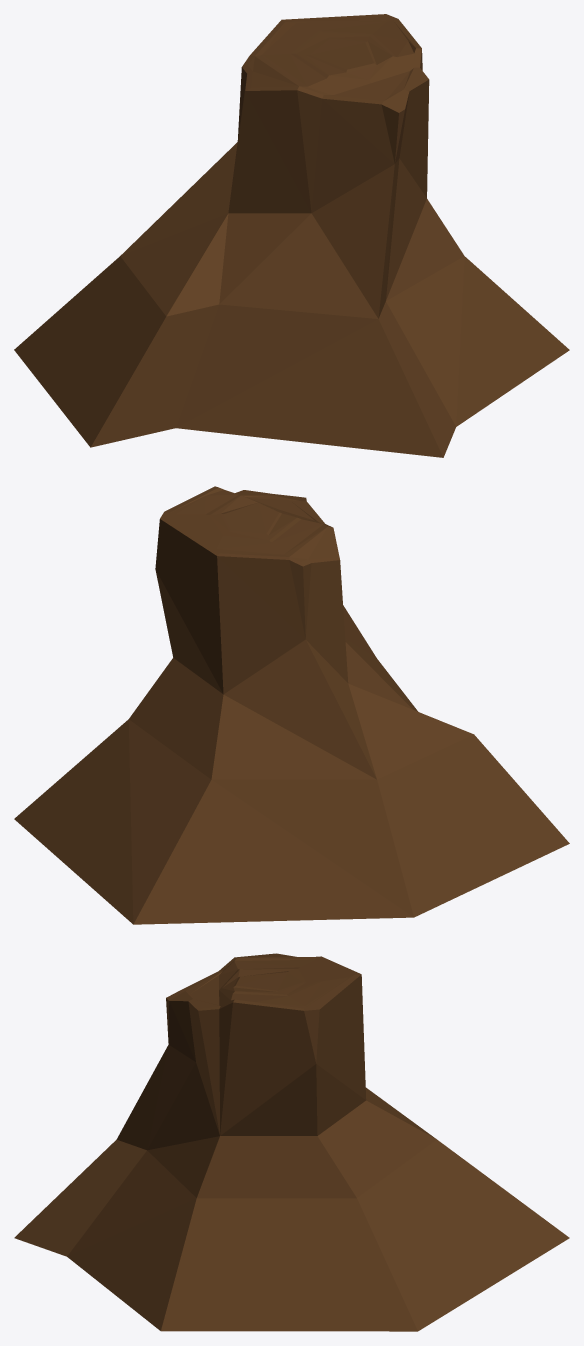
The model's file is SM_Tree_Oak_Stump_A.fbx.
3 views of the same model, one above another, from view 1: azimuth 30°, elevation 25°; view 2: azimuth 150°, elevation 25°; view 3: azimuth 270°, elevation 25° (orthographic). The views are drawn at different scales.
Visible parts, largest first — view 1: tree-oak-stump-a; view 2: tree-oak-stump-a; view 3: tree-oak-stump-a.
Boxes of the visible parts, x1,y1,x2,y2 form: tree-oak-stump-a: (14,14,569,457); tree-oak-stump-a: (14,486,569,924); tree-oak-stump-a: (14,953,569,1331).
Bounding box in the file's own units: 1.68 × 1.05 × 1.89.
